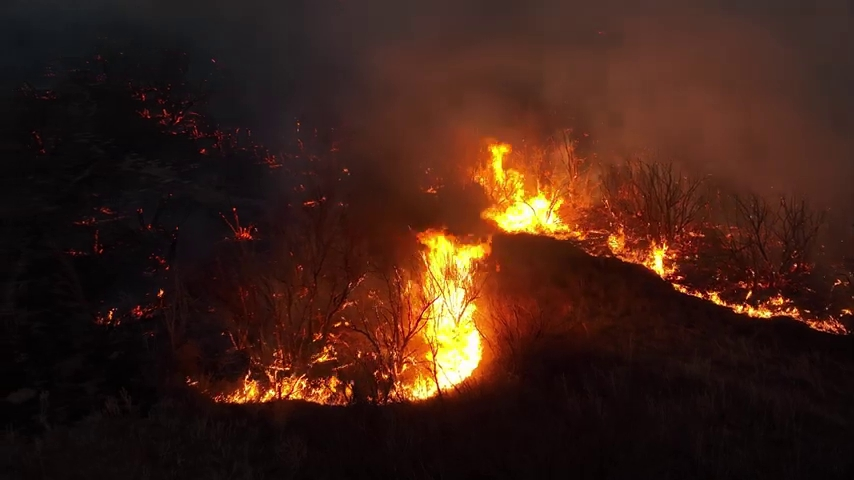forest_fire: (396, 230, 490, 399), (478, 143, 572, 236), (674, 284, 802, 319), (220, 374, 332, 402), (609, 232, 674, 278)
